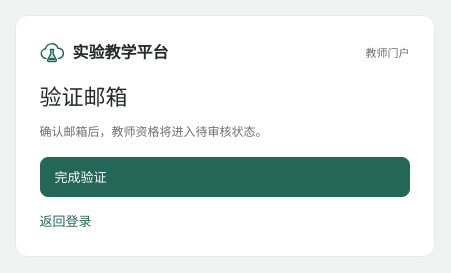
Test: verifies a teacher email and explains the review state
The width and height of the screenshot is (451, 273).
Click the button "完成验证": (81, 177) [40,157,410,197]
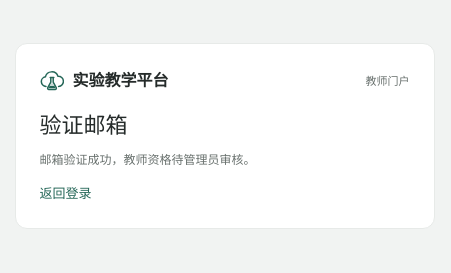
Expected: the text "邮箱验证成功，教师资格待管理员审核。" is shown, [40,151,256,168]
